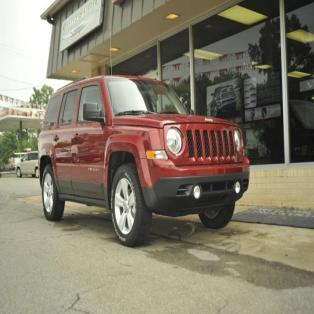Auto: (38, 72, 251, 250)
